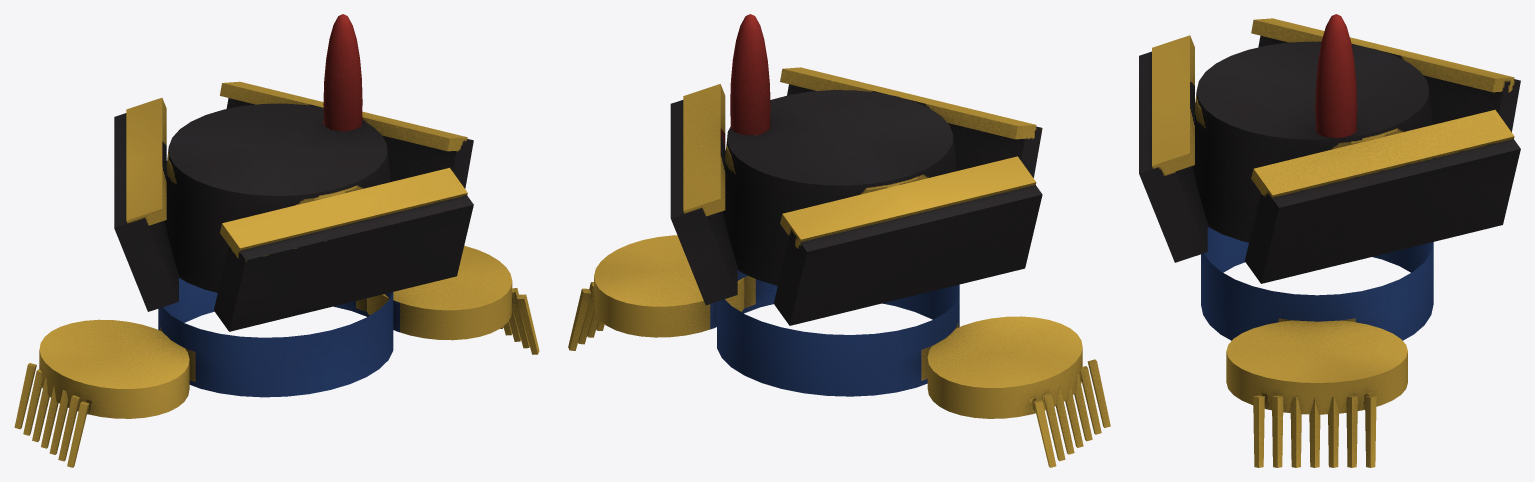
File: npc_capita.glb
3 views of the same model, side by side, from view 1: azimuth 30°, elevation 25°; view 2: azimuth 150°, elevation 25°; view 3: azimuth 270°, elevation 25° (orthographic). The views are drawn at different scales.
Parts seen in each view (by area): view 1: capita_Head_peca, capita_Spine2_peca; view 2: capita_Head_peca, capita_Spine2_peca; view 3: capita_Head_peca, capita_Spine2_peca.
Boxes of the visible parts, <box> form: capita_Head_peca: <box>114,14,473,331</box>; capita_Spine2_peca: <box>14,245,539,467</box>; capita_Head_peca: <box>670,14,1042,325</box>; capita_Spine2_peca: <box>568,235,1110,467</box>; capita_Head_peca: <box>1139,14,1520,283</box>; capita_Spine2_peca: <box>1201,227,1433,467</box>.
Bounding box in the file's own units: 0.4978 × 0.3538 × 0.3282.
Materials: 2 (2 with a texture image).
